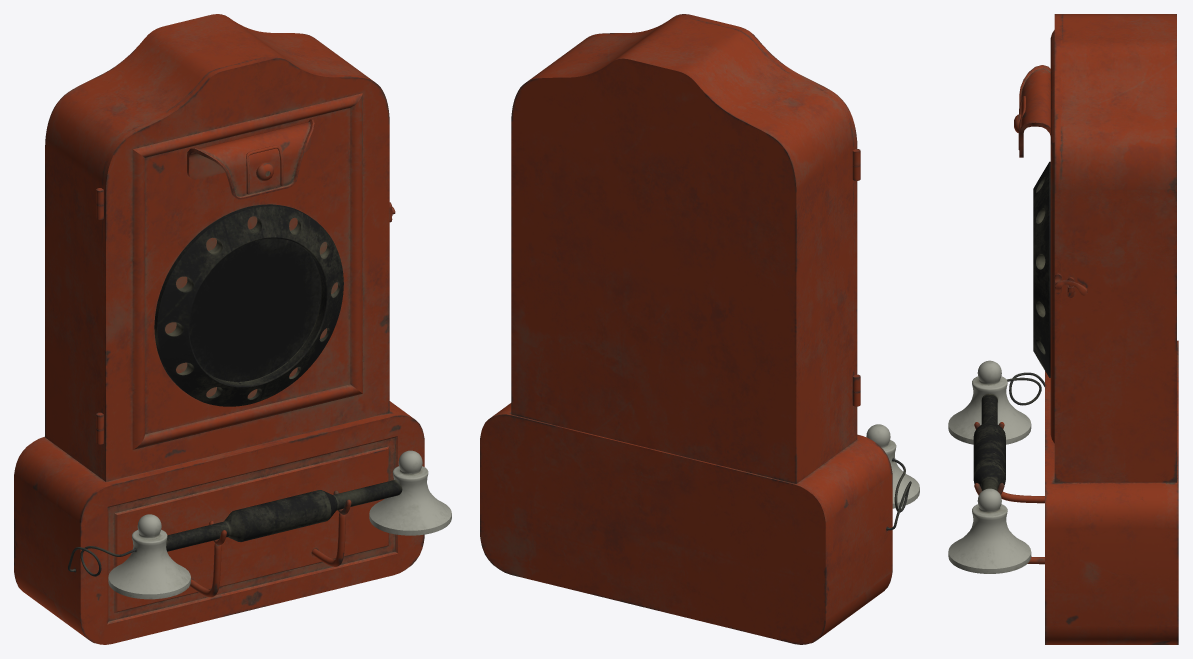
The model's file is vintage_telephone_wall_clock.gltf.
The picture shows the model from 3 angles, left to right: view 1: azimuth 30°, elevation 25°; view 2: azimuth 150°, elevation 25°; view 3: azimuth 270°, elevation 25°; orthographic projection.
Visible parts, largest first — view 1: vintage_telephone_wall_clock; view 2: vintage_telephone_wall_clock; view 3: vintage_telephone_wall_clock.
Part boxes in pixels (left/top/right/bottom): vintage_telephone_wall_clock: left=14, top=14, right=451, bottom=644; vintage_telephone_wall_clock: left=480, top=14, right=919, bottom=644; vintage_telephone_wall_clock: left=948, top=14, right=1178, bottom=644.
Bounding box in the file's own units: 0.3428 × 0.5012 × 0.1926.
Materials: 2 (2 with a texture image).
